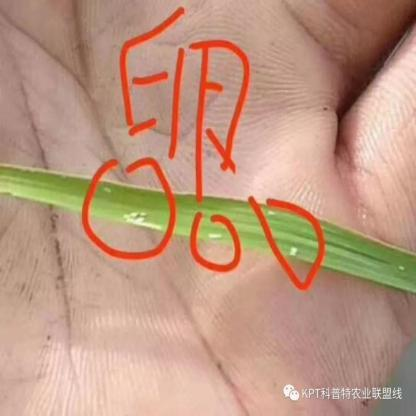whorl-maggot: (286, 244, 300, 260), (208, 230, 224, 242), (138, 209, 150, 218), (130, 210, 140, 220), (268, 207, 277, 218)
